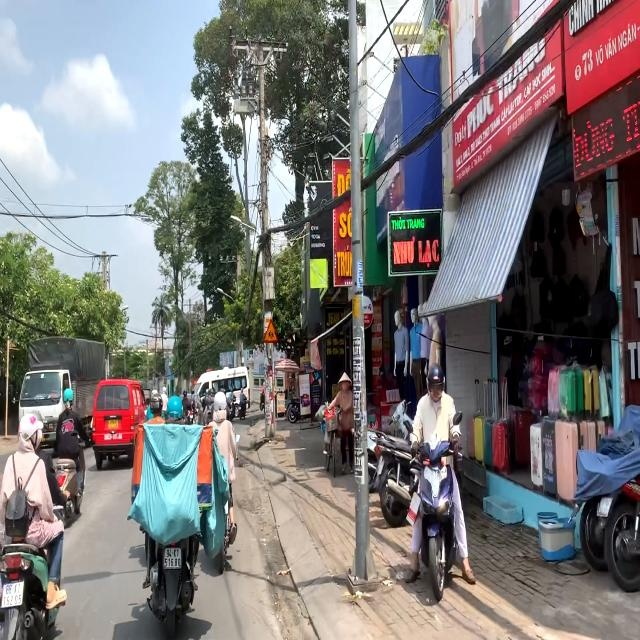bien_nguy_hiem: (264, 317, 280, 343)
